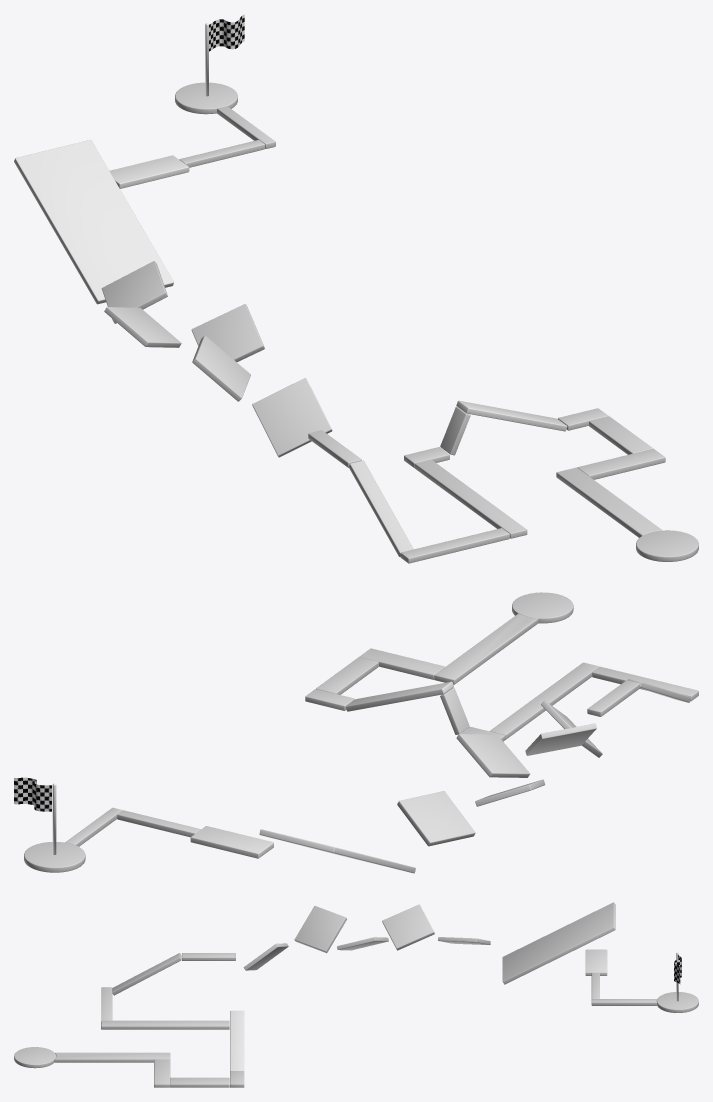
Rendered from level-1.glb.
The picture shows the model from 3 angles, top to bottom: view 1: azimuth 30°, elevation 25°; view 2: azimuth 150°, elevation 25°; view 3: azimuth 270°, elevation 25°; orthographic projection. The views are drawn at different scales.
Parts seen in each view (by area): view 1: Cube Slip, Cube.012, Cube.014, Cube, Cube.004, Cube.016, Cube.013, Cube.002, Start, Cube.015, Finish, Cube Fling Back (+6 smaller); view 2: Cube.016, Cube, Cube.004, Cube.014, Finish, Cube Fling Back, Start, Cube.013, Cube Disappear, Cube.001, Cube Slip, Cube.009 (+9 smaller); view 3: Cube Slip, Cube.013, Cube.015, Cube.004, Cube, Cube Disappear, Start, Finish, Cube.009, Cube.002, Cube Fling Back, Cube.001 (+6 smaller).
Part boxes in pixels (<box>): Cube Slip: <box>14,139,173,304</box>; Cube.012: <box>252,378,332,457</box>; Cube.014: <box>191,304,264,361</box>; Cube: <box>556,467,662,537</box>; Cube.004: <box>414,459,527,538</box>; Cube.016: <box>101,261,167,323</box>; Cube.013: <box>192,335,250,401</box>; Cube.002: <box>348,460,413,556</box>; Start: <box>636,530,698,561</box>; Cube.015: <box>104,307,181,347</box>; Finish: <box>175,82,237,114</box>; Cube Fling Back: <box>109,155,189,188</box>; Cube.016: <box>397,791,475,846</box>; Cube: <box>434,613,538,684</box>; Cube.004: <box>490,662,599,739</box>; Cube.014: <box>456,734,530,777</box>; Finish: <box>24,842,85,872</box>; Cube Fling Back: <box>190,826,273,858</box>; Start: <box>512,592,573,623</box>; Cube.013: <box>525,723,596,755</box>; Cube Disappear: <box>345,681,453,711</box>; Cube.001: <box>359,648,444,679</box>; Cube Slip: <box>259,829,415,873</box>; Cube.009: <box>316,657,378,694</box>; Cube Slip: <box>502,902,615,984</box>; Cube.013: <box>294,906,346,953</box>; Cube.015: <box>382,904,434,950</box>; Cube.004: <box>101,1020,229,1029</box>; Cube: <box>54,1052,170,1062</box>; Cube Disappear: <box>230,1010,244,1070</box>; Start: <box>14,1047,56,1068</box>; Finish: <box>656,992,698,1012</box>; Cube.009: <box>170,1077,229,1087</box>; Cube.002: <box>112,953,181,995</box>; Cube Fling Back: <box>585,949,607,975</box>; Cube.001: <box>154,1059,170,1087</box>.
Size of the model in its own units: 45.91 by 20.54 by 112.
6 materials, 1 textured.
